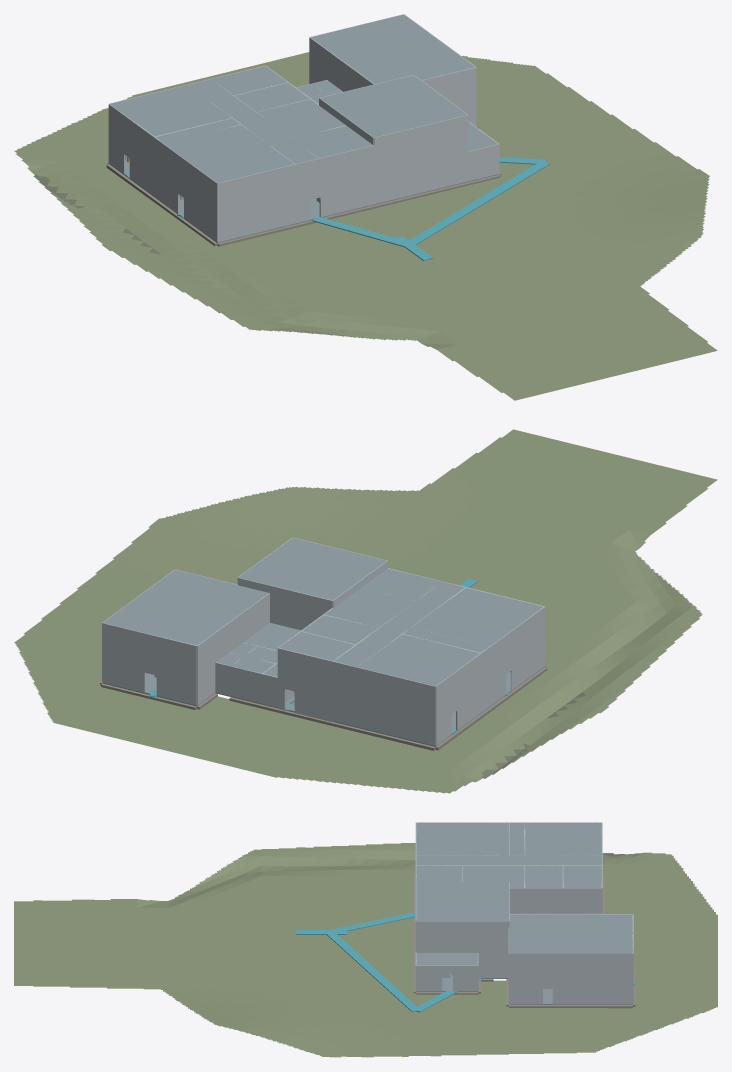
The model's file is open-circulation.glb.
3 renders of one model, top to bottom at view 1: azimuth 30°, elevation 25°; view 2: azimuth 150°, elevation 25°; view 3: azimuth 270°, elevation 25°, orthographic. The views are drawn at different scales.
Visible parts, largest first — view 1: Saved editor macroterrain SCHOOL, Ceiling cap gym, Ceiling cap assembly, Ceiling cap library, Wall assembly S, Ceiling cap class-b, Ceiling cap upper-corridor, Wall library S, Wall class-a-store S, Ceiling cap upper-stair, Wall dining S, Wall upper-lobby S (+17 smaller); view 2: Saved editor macroterrain SCHOOL, Ceiling cap gym, Ceiling cap assembly, Ceiling cap library, Ceiling cap class-b, Flat route shell Wall gym N.001, Flat route shell Wall gym N, Ceiling cap upper-corridor, Wall class-b N, Wall science N, Wall assembly N, Ceiling cap upper-stair (+15 smaller); view 3: Saved editor macroterrain SCHOOL, Flat route shell Wall gym E, Ceiling cap gym, Ceiling cap assembly, Ceiling cap library, Wall assembly E, Ceiling cap class-b, Ceiling cap upper-corridor, Ceiling cap upper-stair, Wall wash-b E, Wall wash-a E, L41 support 1 (+10 smaller).
Boxes of the visible parts, x1,y1,x2,y2 form: Saved editor macroterrain SCHOOL: (14,52,717,400); Ceiling cap gym: (311,14,475,84); Ceiling cap assembly: (320,75,467,137); Ceiling cap library: (164,124,294,182); Wall assembly S: (374,115,467,174); Ceiling cap class-b: (110,85,231,136); Ceiling cap upper-corridor: (188,79,318,163); Wall library S: (217,164,295,212); Wall class-a-store S: (217,194,295,242); Ceiling cap upper-stair: (256,99,345,138); Wall dining S: (374,159,436,203); Wall upper-lobby S: (319,145,374,187); Saved editor macroterrain SCHOOL: (14,429,717,793); Ceiling cap gym: (103,569,268,645); Ceiling cap assembly: (238,538,386,600); Ceiling cap library: (412,588,542,646); Ceiling cap class-b: (357,634,480,686); Flat route shell Wall gym N.001: (102,623,145,692); Flat route shell Wall gym N: (154,635,196,705); Ceiling cap upper-corridor: (334,581,464,666); Wall class-b N: (356,667,435,715); Wall science N: (356,697,435,745); Wall assembly N: (238,577,332,630); Ceiling cap upper-stair: (325,588,414,627); Saved editor macroterrain SCHOOL: (14,843,717,1057); Flat route shell Wall gym E: (509,953,632,1004); Ceiling cap gym: (509,914,632,953); Ceiling cap assembly: (416,881,508,920); Ceiling cap library: (416,822,508,855); Wall assembly E: (416,921,508,952); Ceiling cap class-b: (524,822,601,855); Ceiling cap upper-corridor: (416,855,601,865); Ceiling cap upper-stair: (462,865,524,887); Wall wash-b E: (524,888,563,913); Wall wash-a E: (563,888,601,913); L41 support 1: (326,931,419,1011).
Bounding box in the file's own units: 67 × 11.26 × 91.
24 materials, 16 textured.
